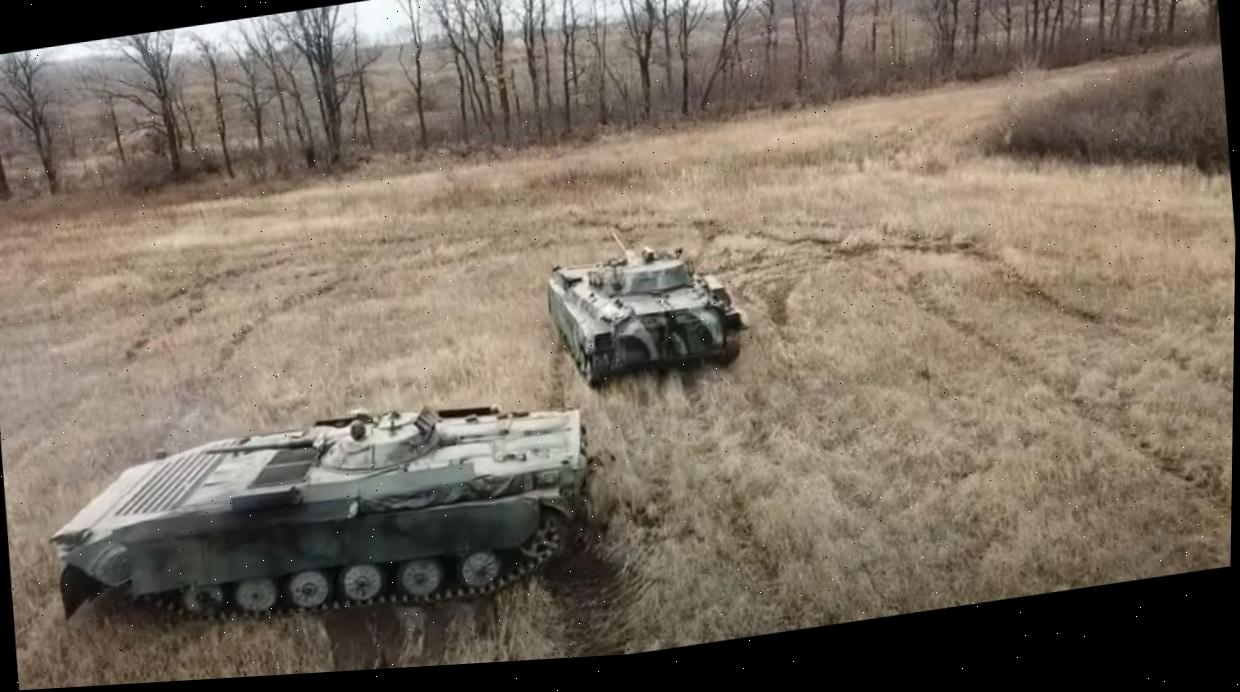tank: (33, 383, 607, 657), (536, 214, 751, 396)
